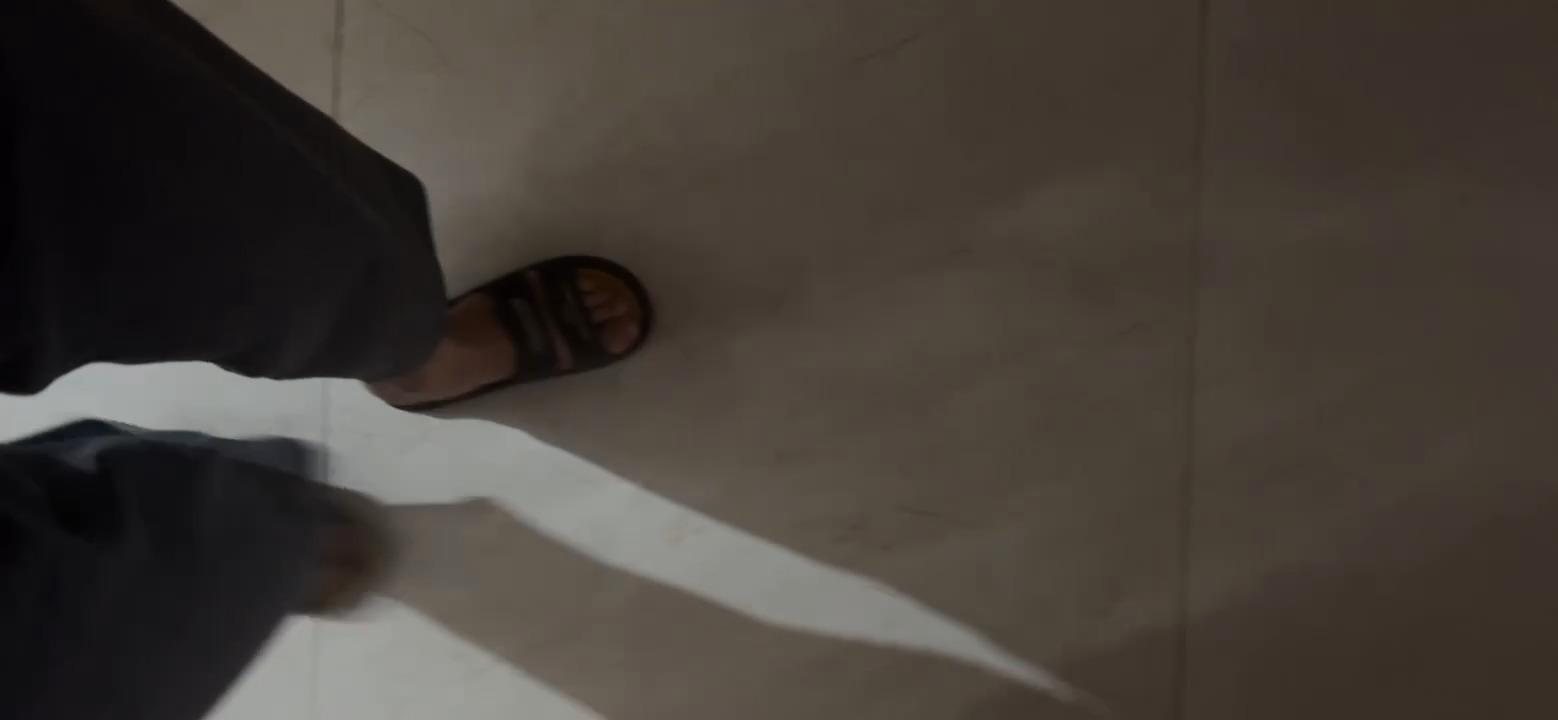no-boot: (311, 247, 667, 400)
